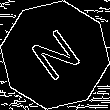N_SE: (24, 23, 86, 87)
